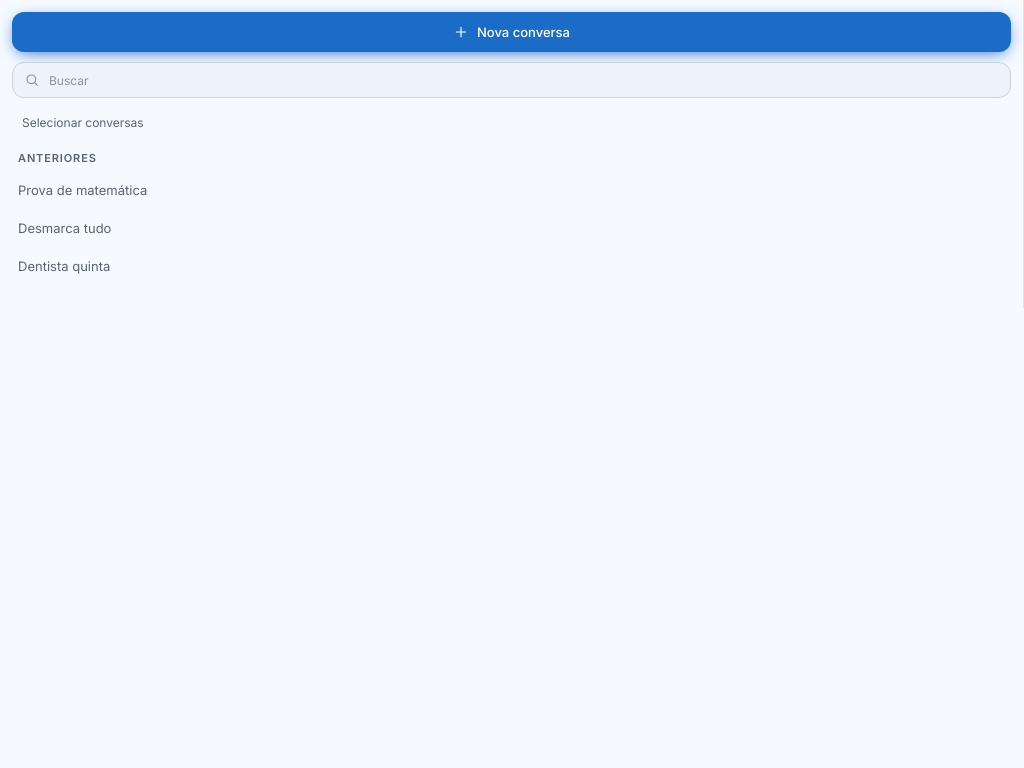
confirmação antes de apagar › não apaga nada sem passar pelo diálogo
The width and height of the screenshot is (1024, 768).
Click the button "Selecionar conversas".
click(83, 122)  # box [12,108,1011,138]
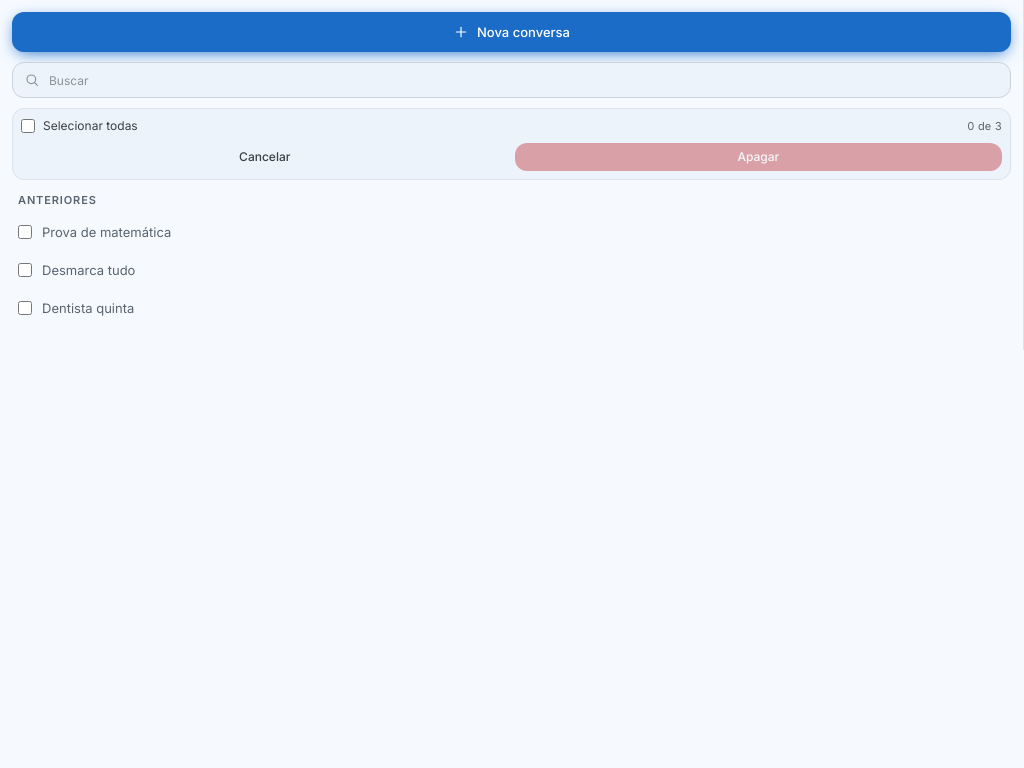
Click the checkbox labelled "Prova de matemática".
click(25, 232)  # box [18,225,32,239]
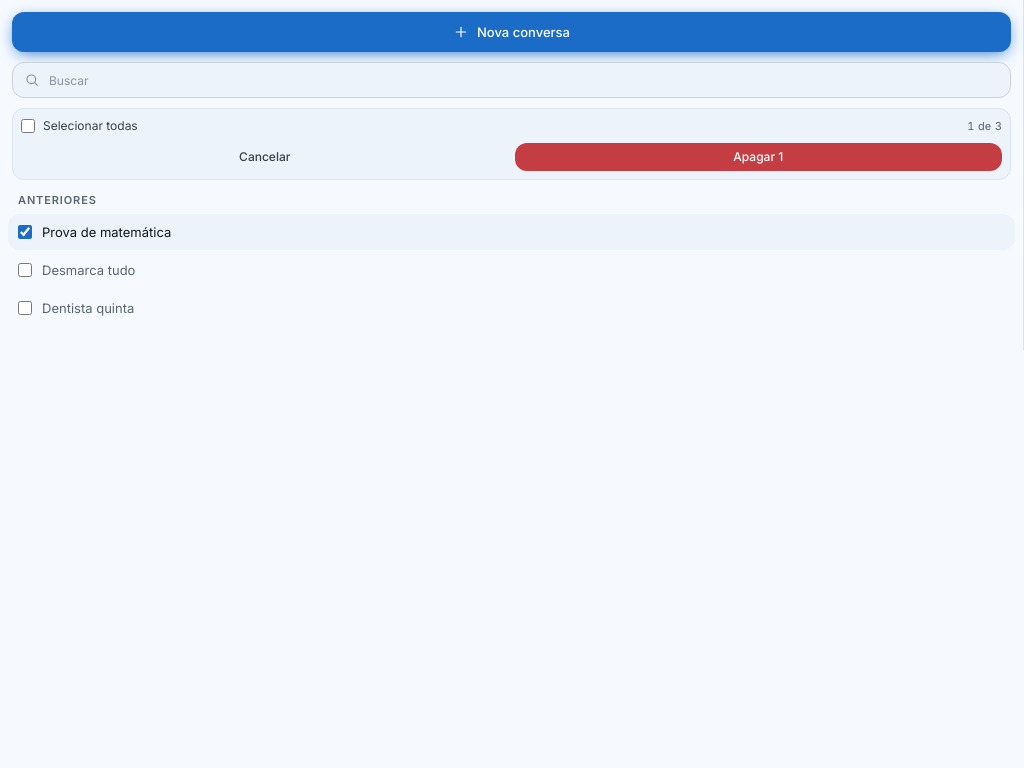
Click the button "Apagar 1".
click(758, 157)  # box [514,143,1002,171]
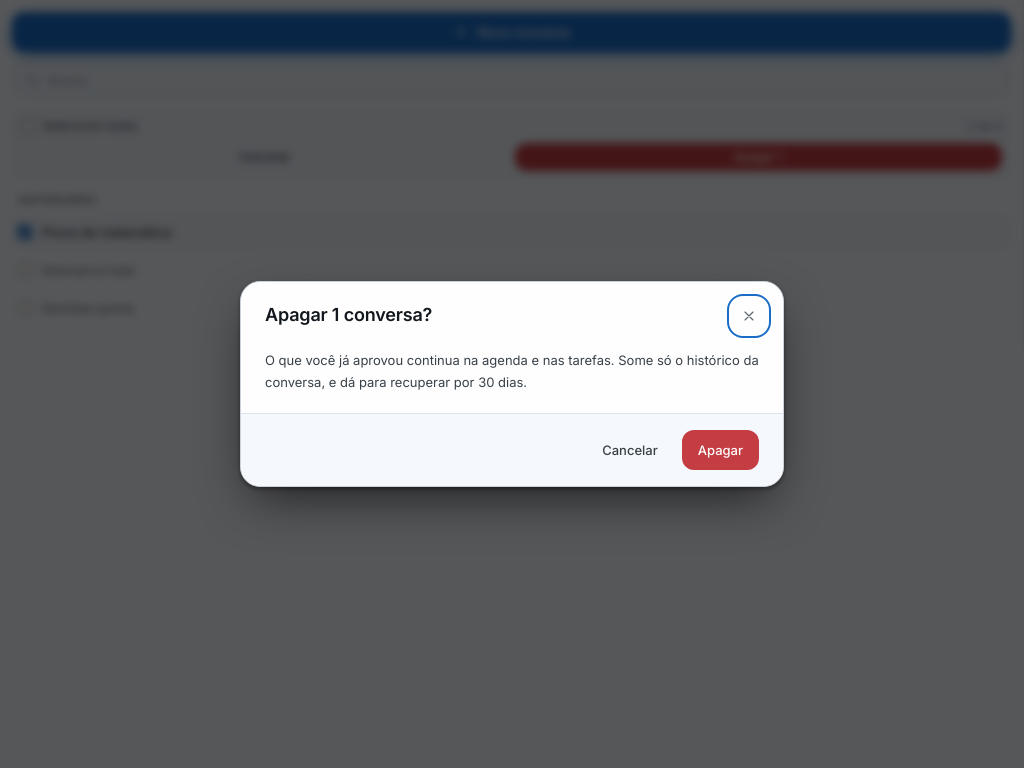
expect the heading "Apagar 1 conversa?" is shown: met, box [265,302,432,328]
